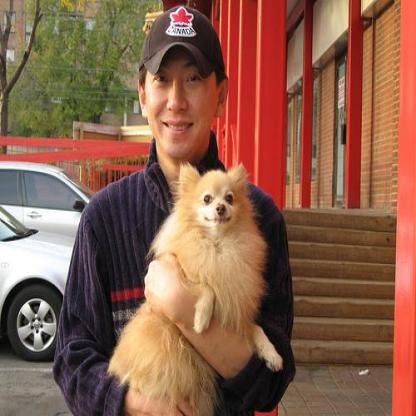Pomeranian: (106, 158, 281, 414)
